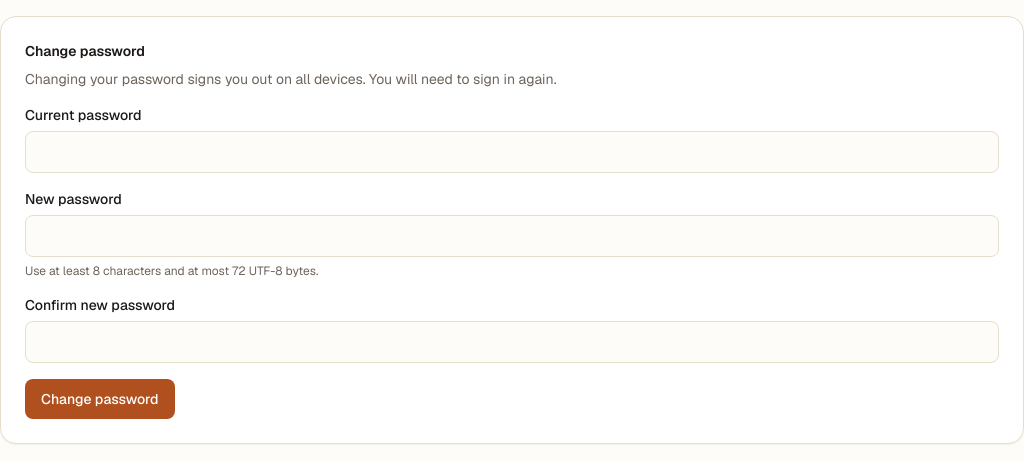
Scenario: profile password form › prevents duplicate submission and clears the form before returning to sign-in
Type "old password" into the password field labelled "Current password" at (512, 152), box [25,131,999,173]
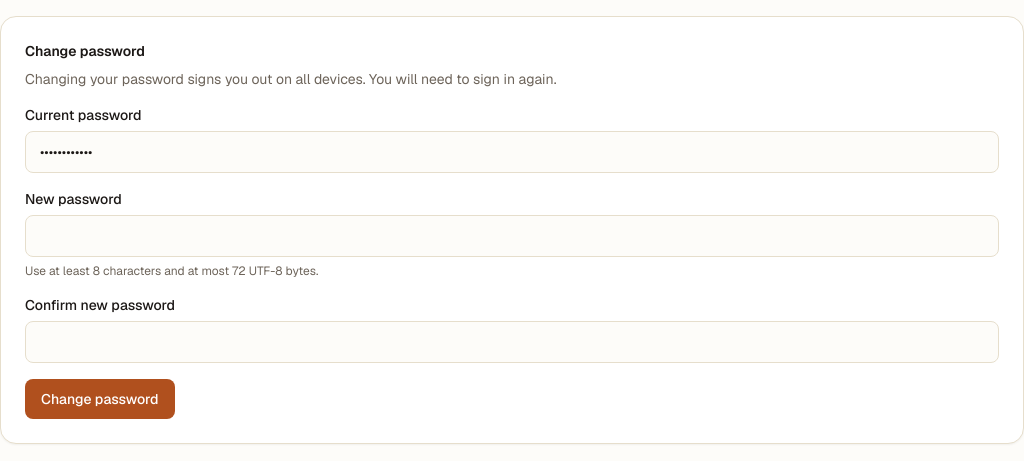
Type "new password" into the password field labelled "New password" at (512, 236), box [25,215,999,257]
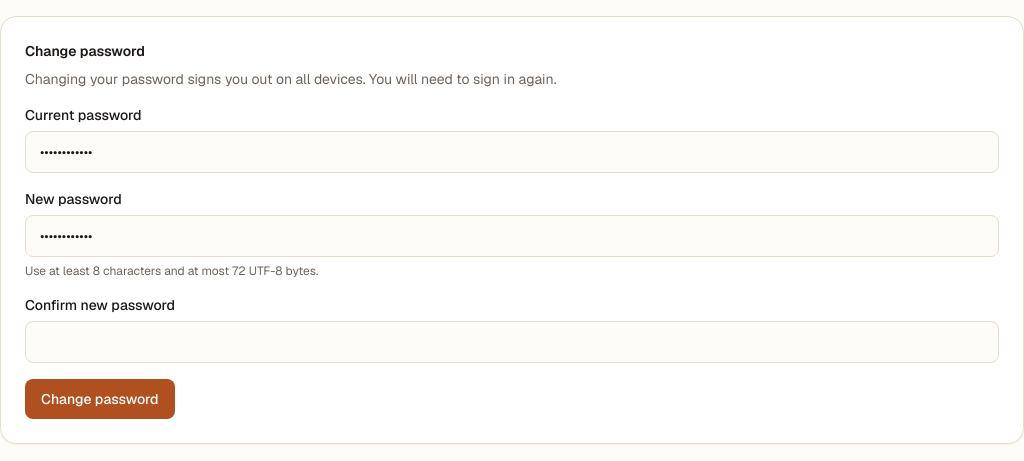
Type "new password" into the password field labelled "Confirm new password" at (512, 342), box [25,321,999,363]
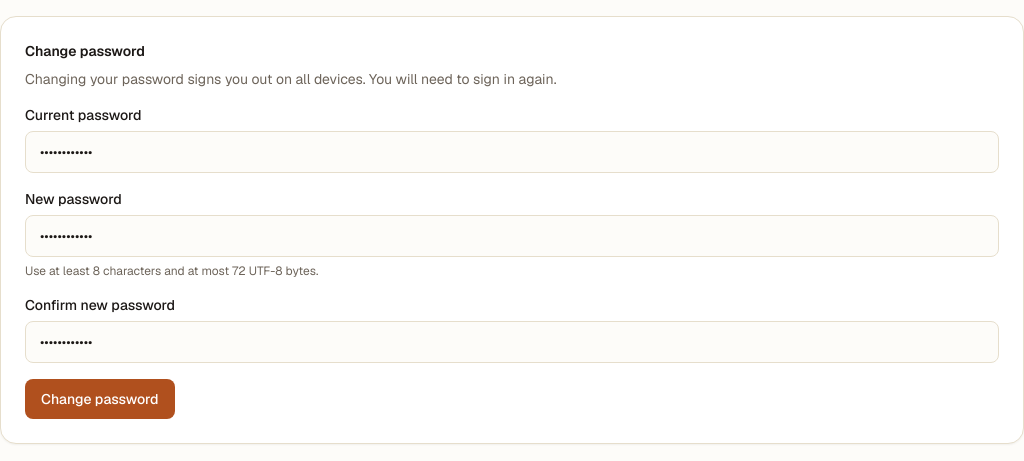
Submit the form named "Change password"
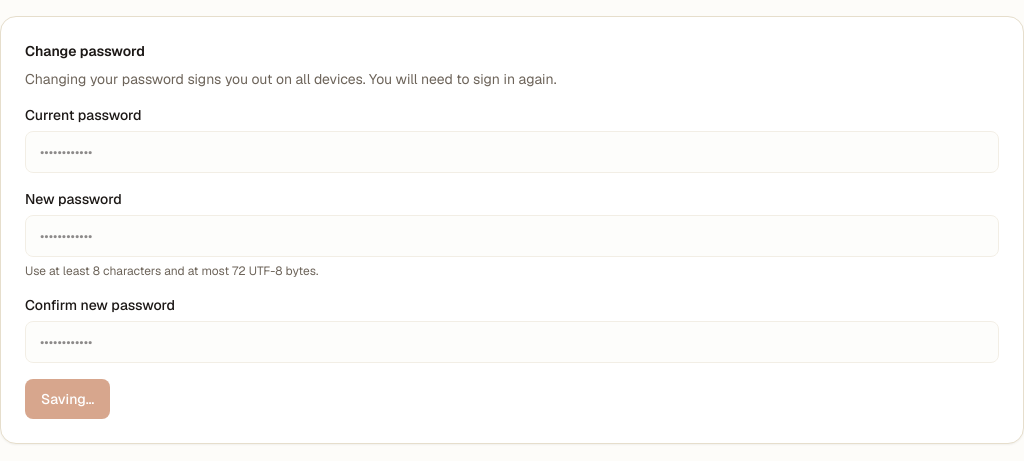
Check: the password field labelled "Current password" is disabled, box [25,131,999,173]
Check: the button "Saving…" is disabled, box [25,379,110,419]
Submit the form named "Change password"
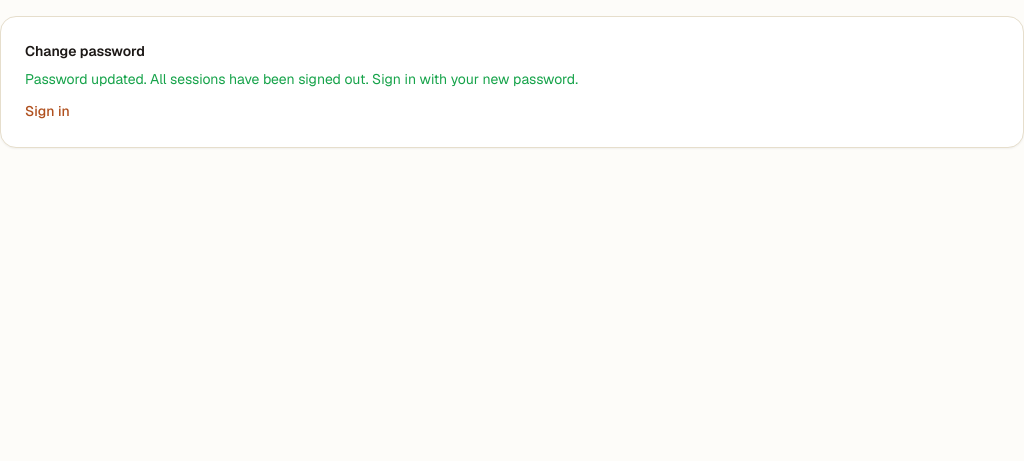
Check: the label labelled "Current password" is gone
Check: the message shows "Password updated. All sessions have been signed out. Sign in with your new password.", box [25,70,578,88]
